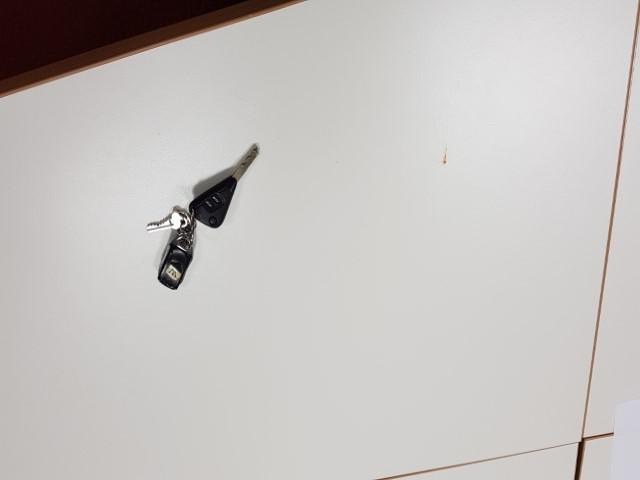key: (184, 142, 264, 229)
